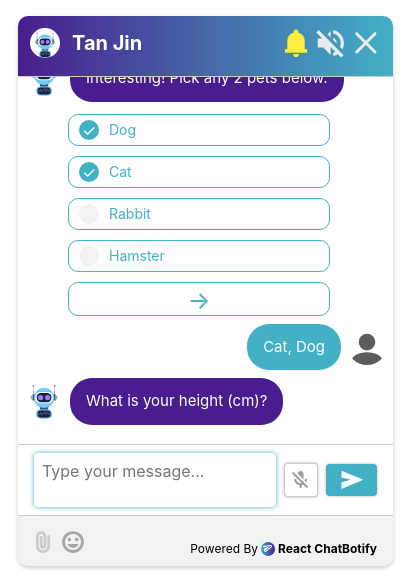
Test case: Chat Bot Test Suite › Sends wrong height and verifies bot reply
The image size is (412, 586).
(page scrolled)
Type "abc" into the text box with placeholder "Type your message..." at (155, 480), box [34,453,276,507]
Then press Enter
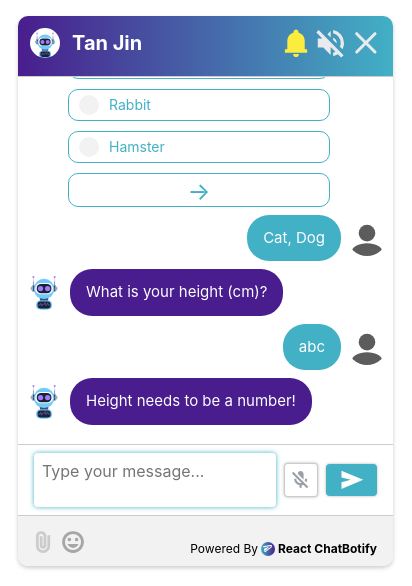
Expected: the text "Height needs to be a number!" is shown, [70,378,312,424]
